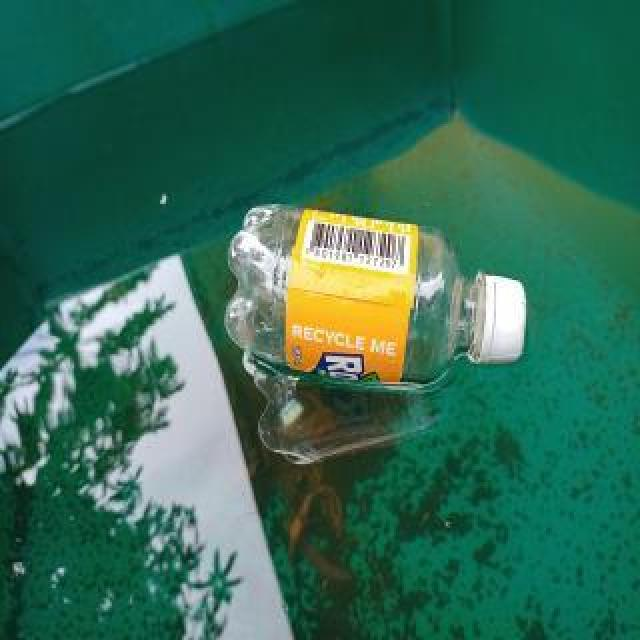bottle: (220, 195, 532, 401)
